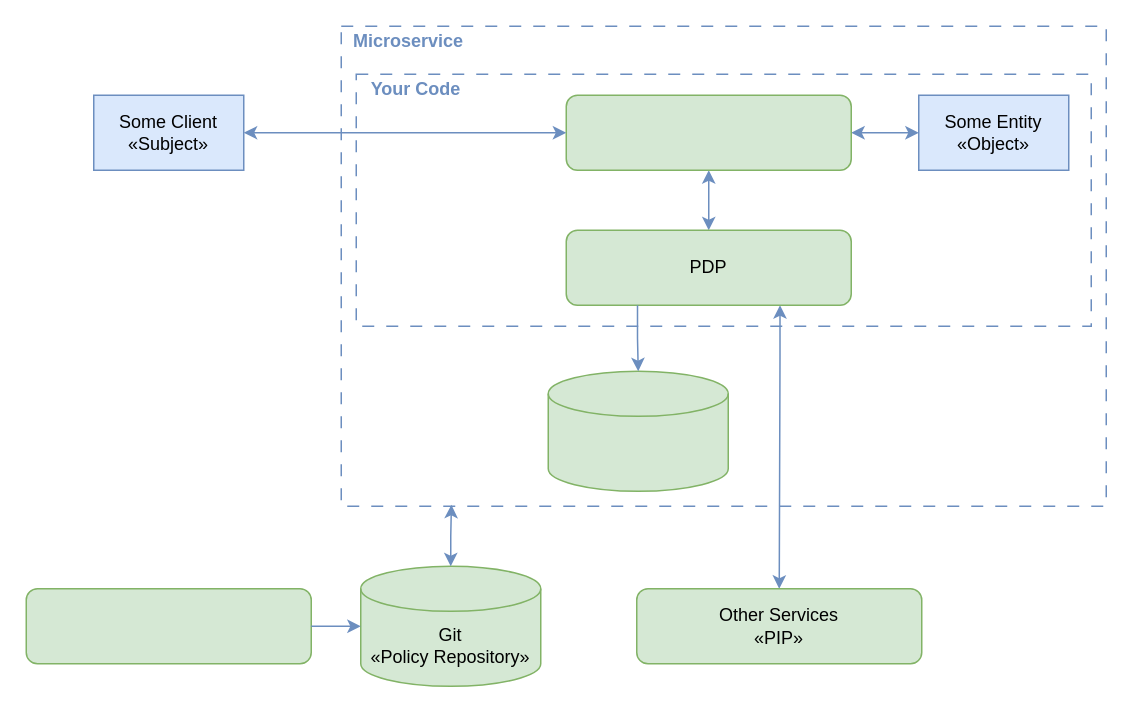
The diagram is 1133 pixels wide and 713 high, and some of its shapes have lost their labels. Here are the shapes that lost their labels. From the top down, the centre of each, then its label:
the point at 708,132: PEP
the point at 637,430: microservice DB «PIP»
the point at 168,625: IDE «PAP»
